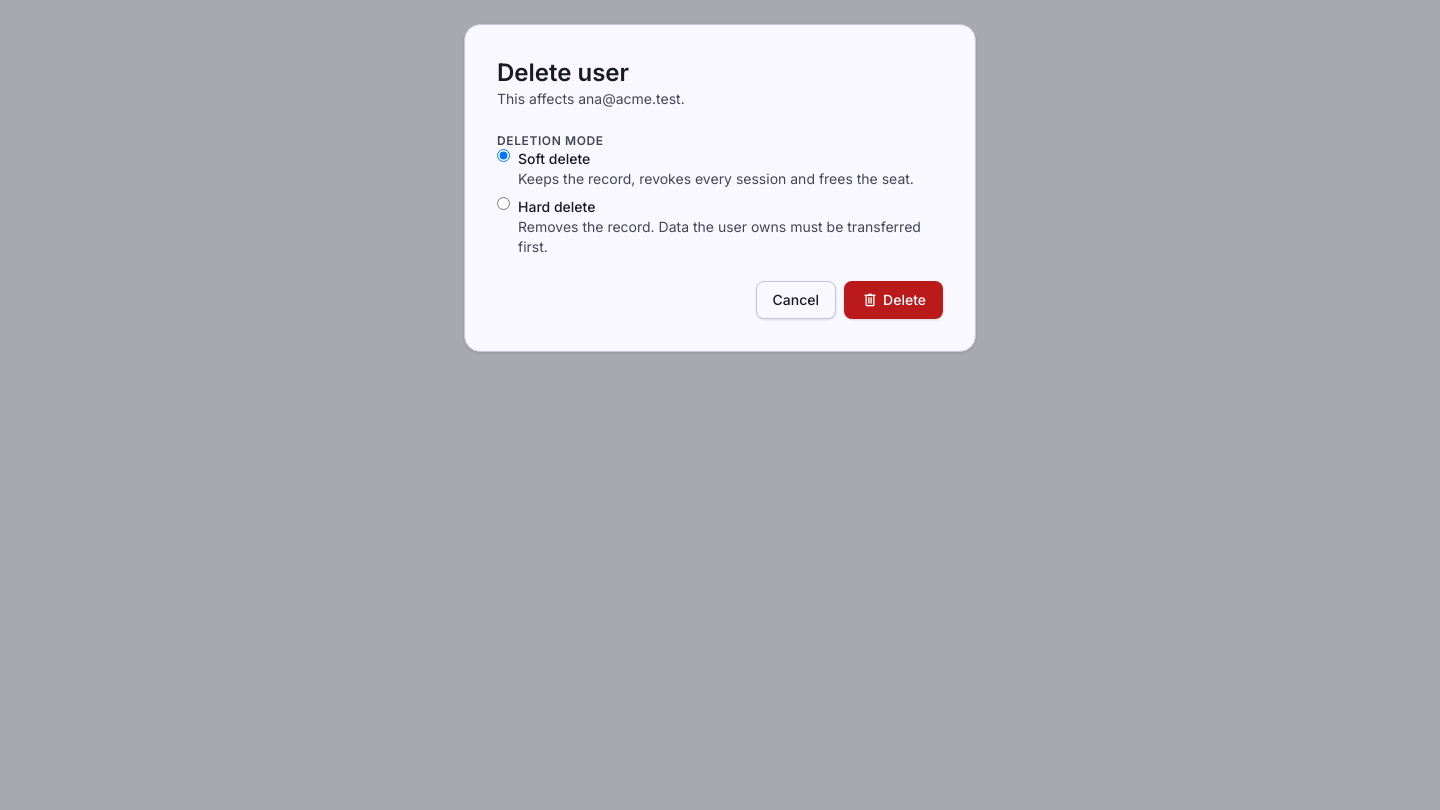
Test: DeleteUserDialog › loads active members as transfer targets, excluding the user being deleted
This screenshot has width=1440, height=810.
Click the radio button labelled "Hard delete".
click(504, 204)  # box [497,197,510,210]
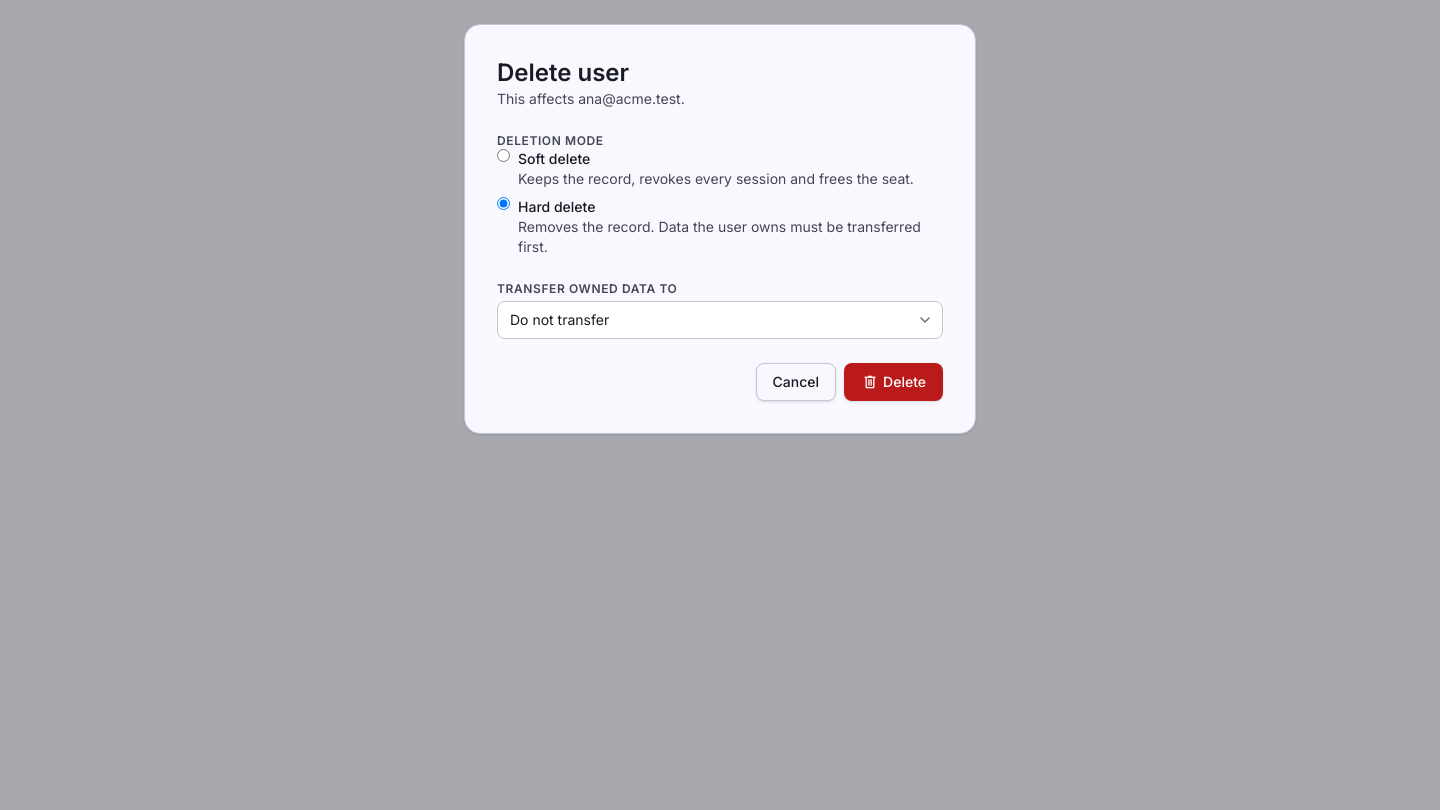
Expected: the dropdown labelled "Transfer owned data to" is shown, [497,301,943,339]
